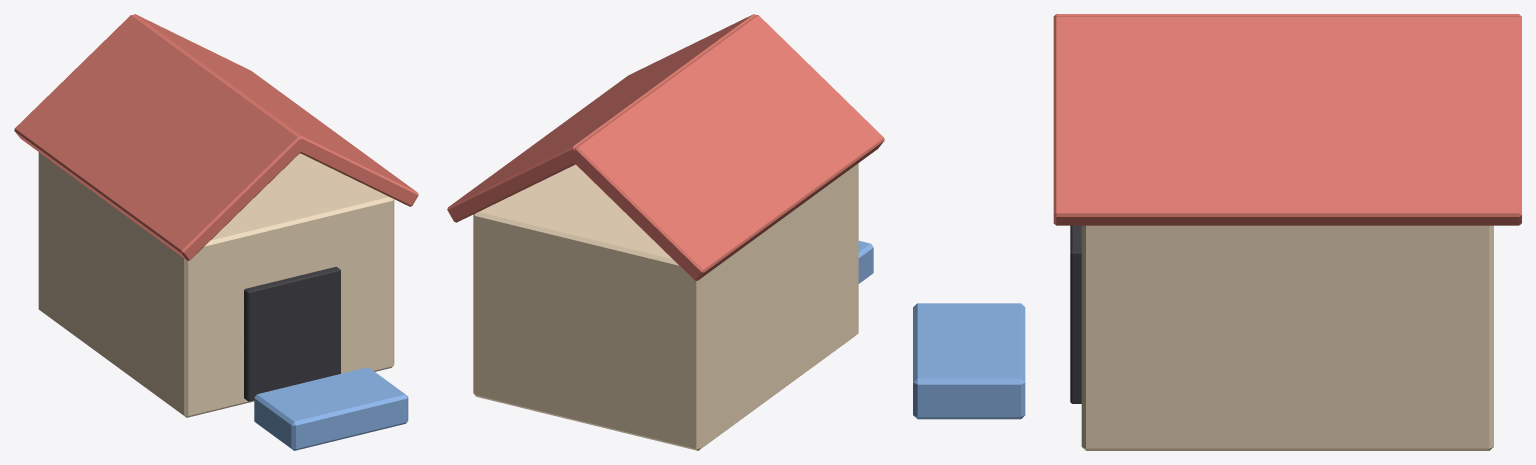
3 renders of one model, left to right at view 1: azimuth 30°, elevation 25°; view 2: azimuth 150°, elevation 25°; view 3: azimuth 270°, elevation 25°, orthographic. The views are drawn at different scales.
Visible parts, largest first — view 1: DogHouse; view 2: DogHouse; view 3: DogHouse.
Part boxes in pixels (left/top/right/bottom): DogHouse: left=14, top=14, right=418, bottom=450; DogHouse: left=447, top=14, right=884, bottom=450; DogHouse: left=913, top=14, right=1521, bottom=450.
Size of the model in its own units: 1.01 by 1.08 by 1.62.
